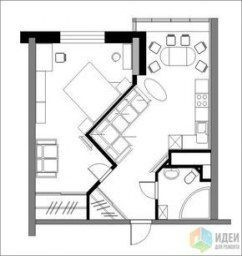door: (129, 227, 152, 247), (87, 163, 111, 180), (138, 178, 155, 200)
room: (25, 30, 217, 223), (134, 18, 216, 151), (155, 171, 218, 224)
wall: (208, 17, 218, 220), (28, 38, 36, 235), (34, 218, 132, 225), (107, 29, 145, 45), (21, 30, 59, 44), (151, 219, 232, 222), (84, 194, 90, 223), (168, 148, 209, 152), (165, 164, 203, 168), (199, 164, 204, 182), (131, 74, 138, 86)
window: (61, 29, 106, 44)
